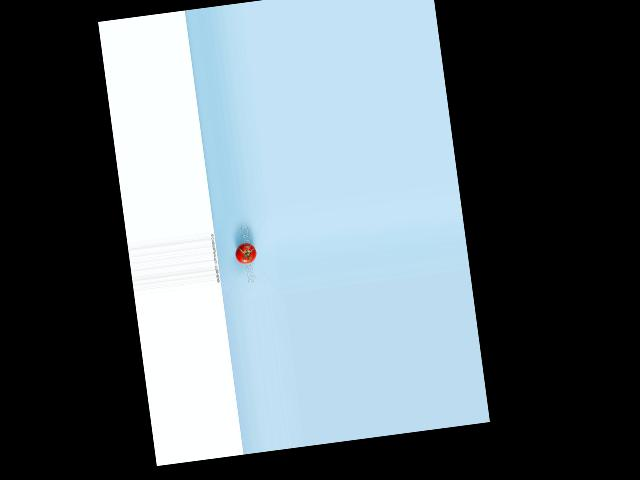tomato: (233, 242, 257, 265)
